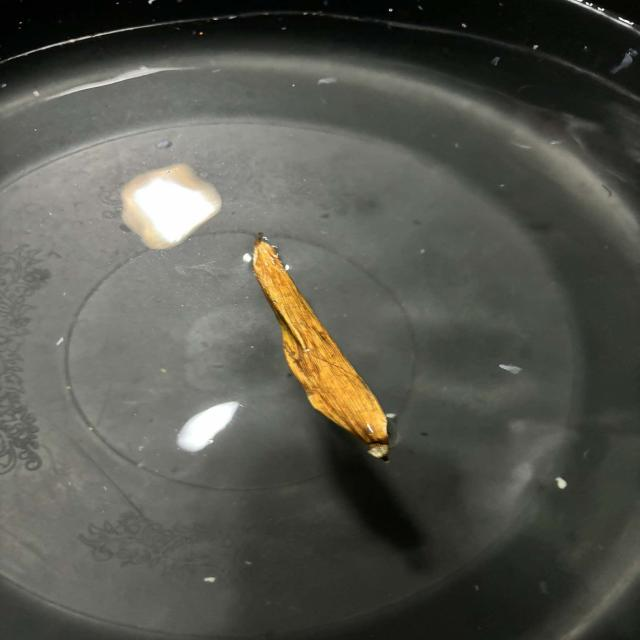Leaf: (221, 226, 405, 474)
